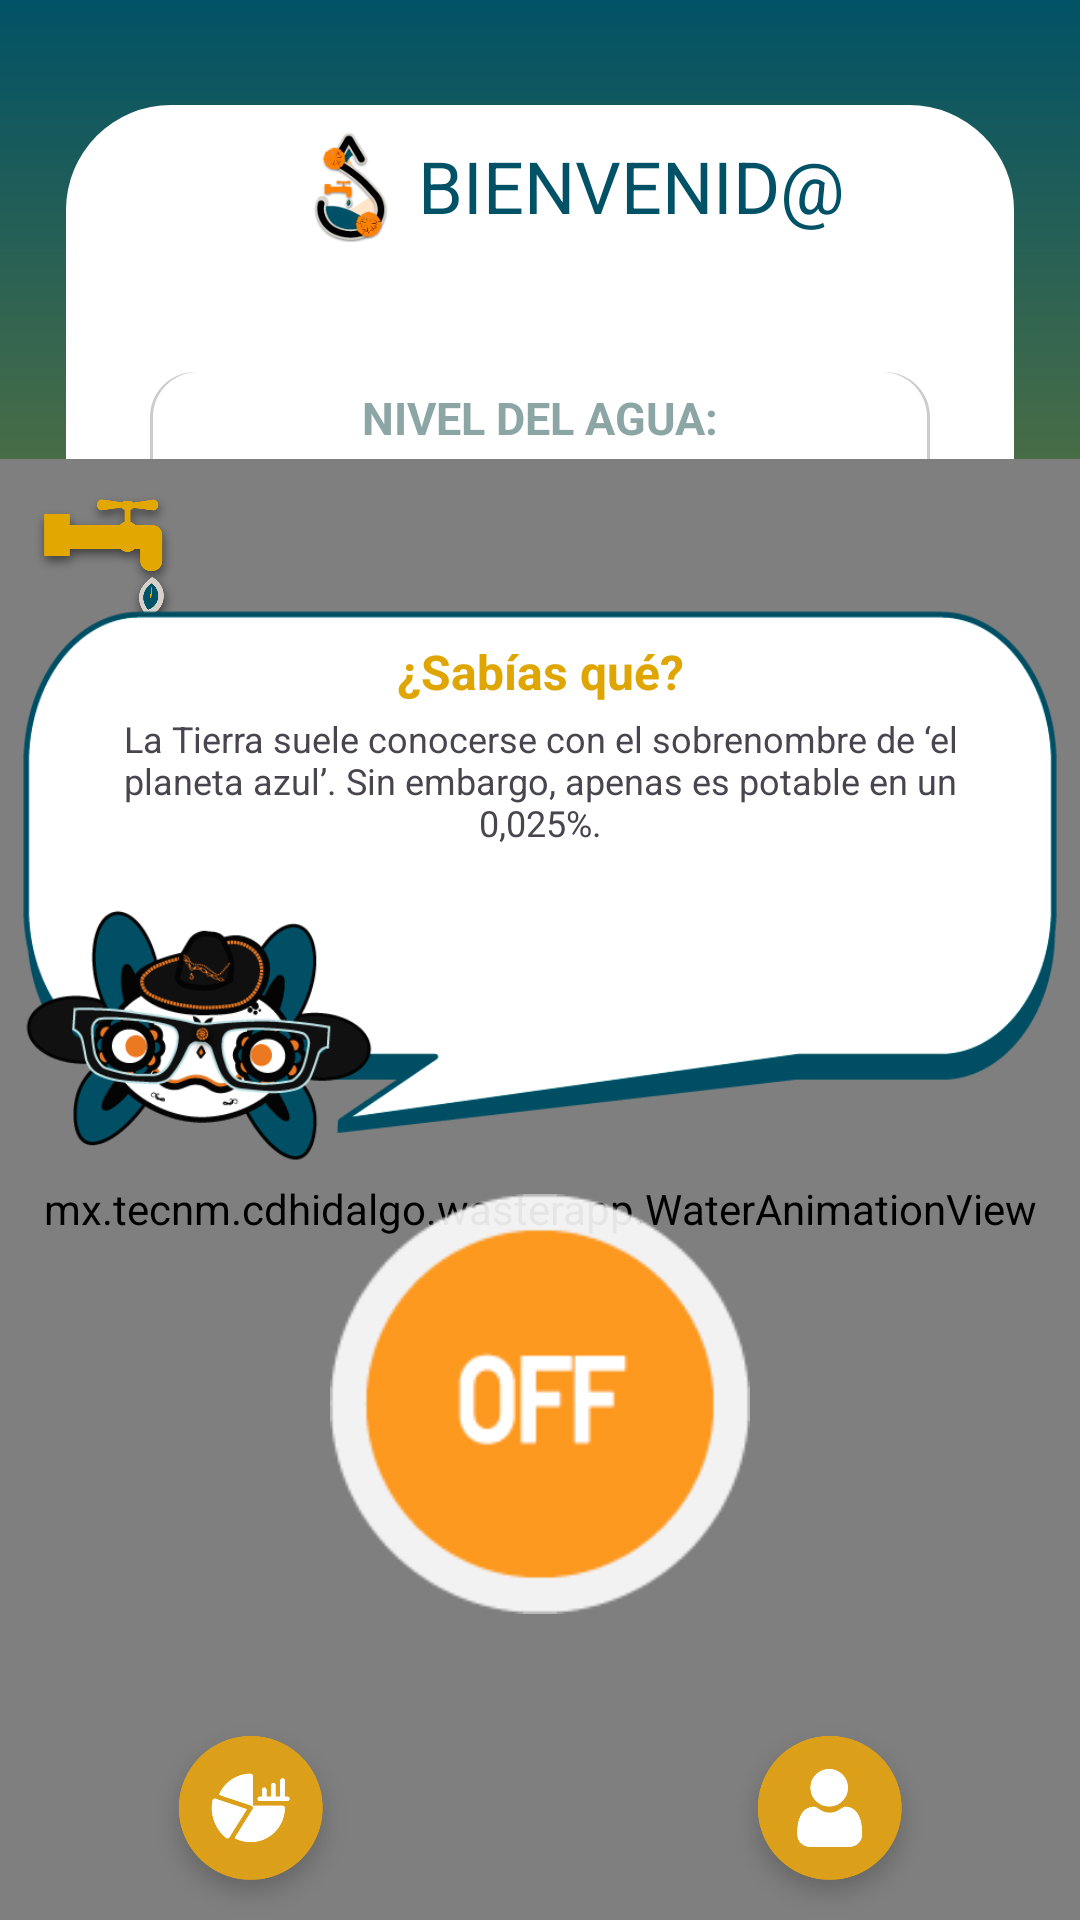

Icon click points for this 1080×1920 phone screenshot, format (x,y):
grafico on: (251,1808)
llave: (112,567)
usuario on: (830,1808)
